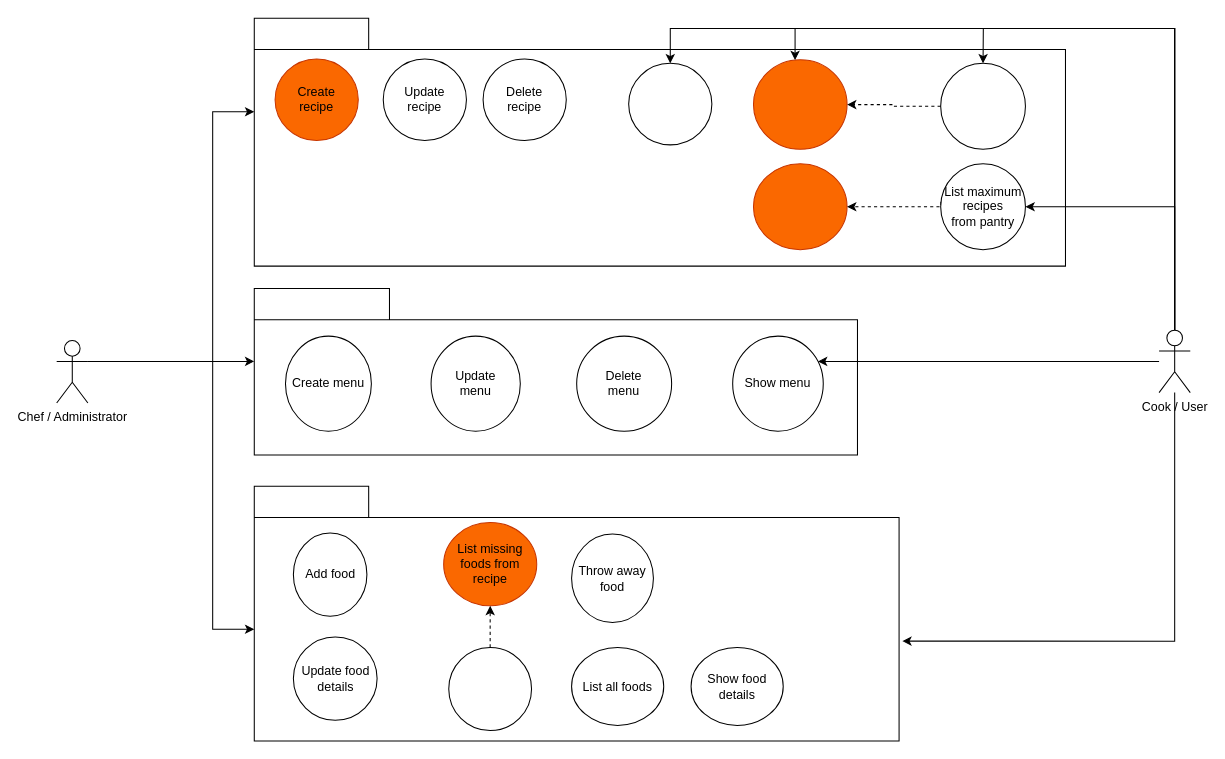
The diagram is 1225 pixels wide and 759 high, and some of its shapes have lost their labels. Here are the shapes that lost their labels. From the top down, the box of each, then its label:
(628, 62, 712, 145): Show recipe
(752, 59, 847, 149): List possible recipes from ingredient names
(940, 62, 1025, 149): List possible recipes from pantry
(253, 17, 1065, 266): Recipe Package
(752, 163, 847, 250): List maximum recipes from real ingredients
(253, 288, 857, 455): Menu Package
(253, 485, 899, 741): Food Package
(448, 646, 532, 731): List missing foods from menu
